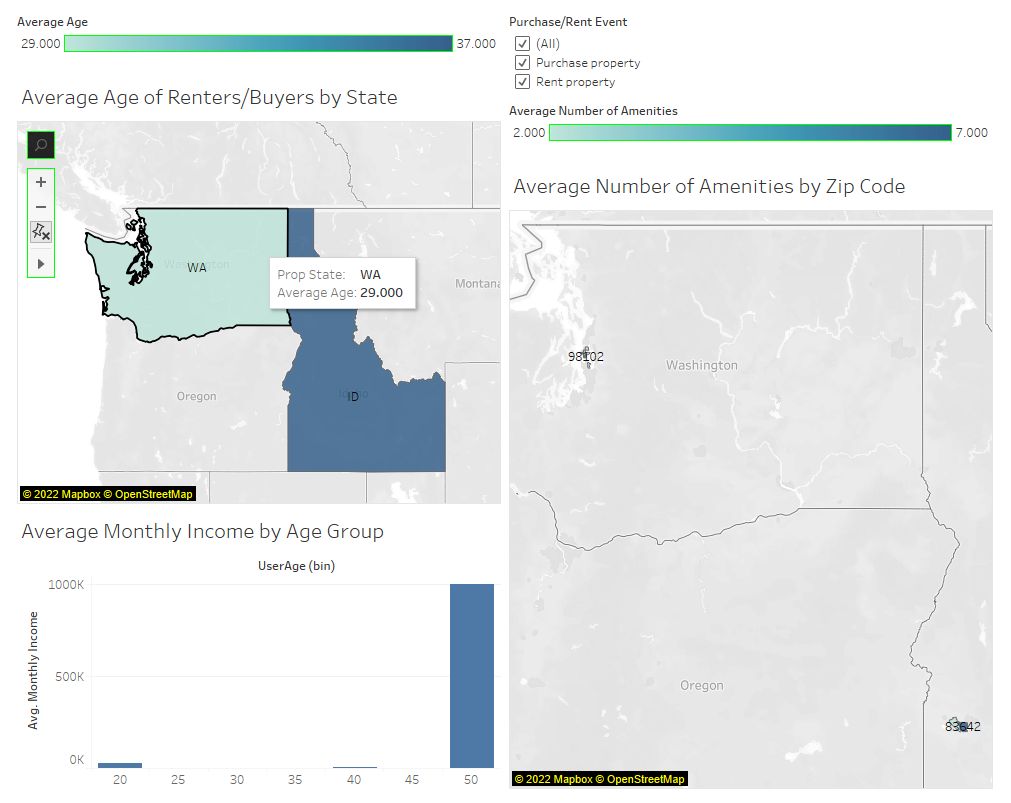

What the dashboard file says about the page in this screenshot:
{"tool":"tableau","page":{"name":"Amentities and Income by Age and Geography","canvas":[1000,800],"ordinal":0},"visuals":[{"type":"legend","title":"Average Age of Renters/Buyers by State","param":"[federated.0io1pn01axl5lf18k7qi51slx2se].[usr:Calculation_755478846059814912:qk]","box":[8,8,492,65]},{"type":"filter","title":"Average Age of Renters/Buyers by State","param":"[federated.0io1pn01axl5lf18k7qi51slx2se].[none:Calculation_1086211944790011904:n","box":[500,8,492,89]},{"type":"worksheet","title":"Average Age of Renters/Buyers by State","mark":"Multipolygon","box":[8,73,492,434]},{"type":"legend","title":"Average Number of Amenities by Zip Code","param":"[federated.0io1pn01axl5lf18k7qi51slx2se].[usr:Calculation_755478846069432321:qk]","box":[500,97,492,65]},{"type":"worksheet","title":"Average Number of Amenities by Zip Code","mark":"Automatic","box":[500,162,492,630]},{"type":"worksheet","title":"Average Monthly Income by Age Group","mark":"Automatic","rows":["MonthlyIncome"],"cols":["UserAge (bin)"],"box":[8,507,492,285]}]}

Visuals, with their boxes in screenshot pixels (x1, y1, x2, y2), scaled from the page's 1000x800 canvas onto the 1011x803 screenshot:
"Average Age of Renters/Buyers by State" legend: [x1=8, y1=8, x2=505, y2=73]
"Average Age of Renters/Buyers by State" filter: [x1=505, y1=8, x2=1003, y2=97]
"Average Age of Renters/Buyers by State" worksheet (Multipolygon marks): [x1=8, y1=73, x2=505, y2=509]
"Average Number of Amenities by Zip Code" legend: [x1=505, y1=97, x2=1003, y2=163]
"Average Number of Amenities by Zip Code" worksheet: [x1=505, y1=163, x2=1003, y2=795]
"Average Monthly Income by Age Group" worksheet: [x1=8, y1=509, x2=505, y2=795]
